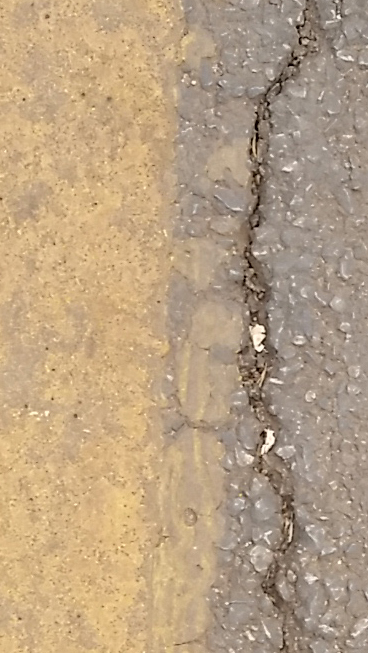A: (206, 16, 338, 625)
